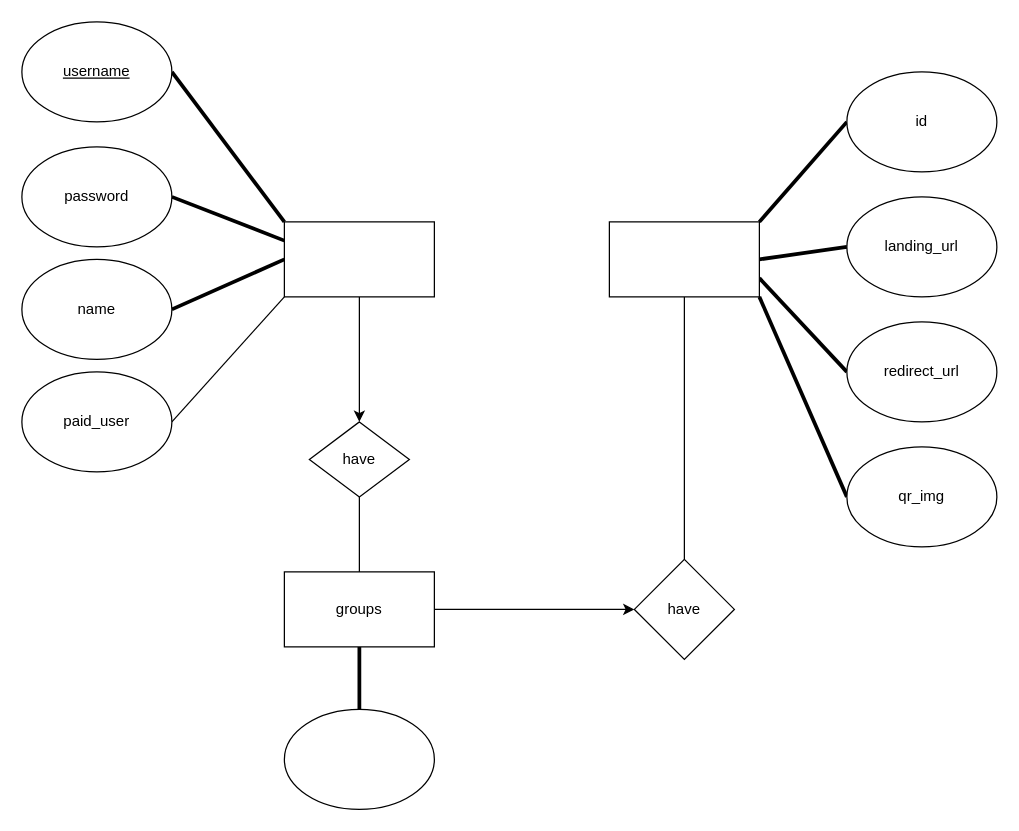
The diagram is 1019 pixels wide and 831 high, and some of its shapes have lost their labels. Here are the shapes that lost their labels. From the top down, the box of each, then its label:
(283, 221, 434, 297): Users
(608, 221, 759, 297): qrcodes
(283, 708, 434, 809): group name
